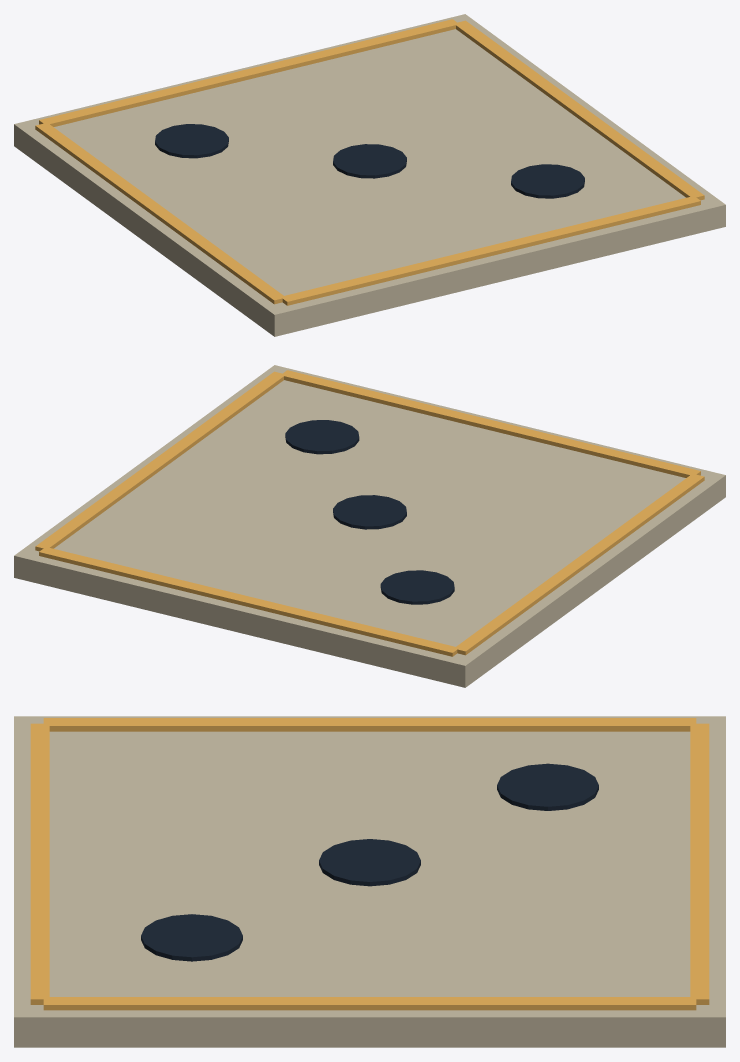
The model's file is space_die_cream_face_3.glb.
The picture shows the model from 3 angles, top to bottom: view 1: azimuth 30°, elevation 25°; view 2: azimuth 150°, elevation 25°; view 3: azimuth 270°, elevation 25°; orthographic projection. The views are drawn at different scales.
Visible parts, largest first — view 1: FixedDetails, BrassTrim; view 2: FixedDetails, BrassTrim; view 3: FixedDetails, BrassTrim.
Part boxes in pixels (<box>): FixedDetails: <box>14,14,725,336</box>; BrassTrim: <box>35,19,704,305</box>; FixedDetails: <box>14,365,725,687</box>; BrassTrim: <box>35,370,704,656</box>; FixedDetails: <box>14,716,725,1047</box>; BrassTrim: <box>30,718,709,1010</box>.
Bounding box in the file's own units: 0.6 × 0.034 × 0.6.
